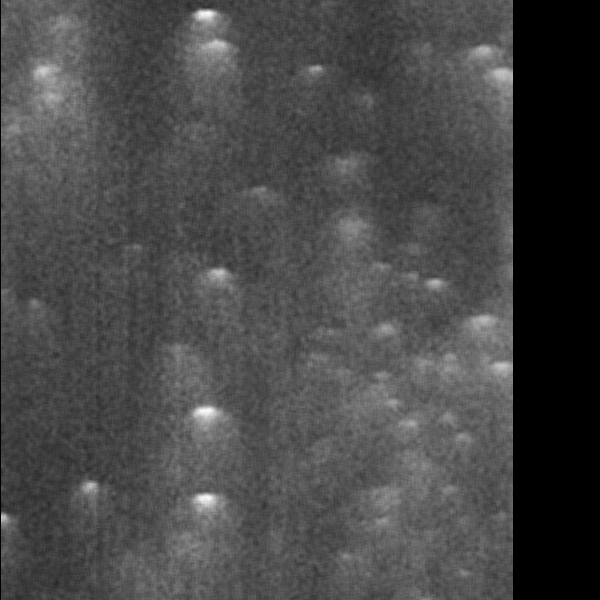spark: (173, 396, 231, 459), (358, 477, 404, 541), (182, 5, 227, 70), (183, 486, 226, 543), (15, 59, 65, 106), (195, 264, 235, 317), (318, 154, 372, 191), (455, 310, 510, 346), (324, 212, 373, 252), (356, 314, 399, 352), (328, 548, 374, 577), (382, 413, 433, 436), (490, 64, 513, 115), (75, 478, 100, 522), (466, 522, 488, 569), (25, 292, 44, 341), (423, 274, 447, 311), (398, 265, 424, 295), (296, 60, 331, 81), (444, 568, 483, 583), (489, 506, 510, 531), (449, 515, 478, 527)
